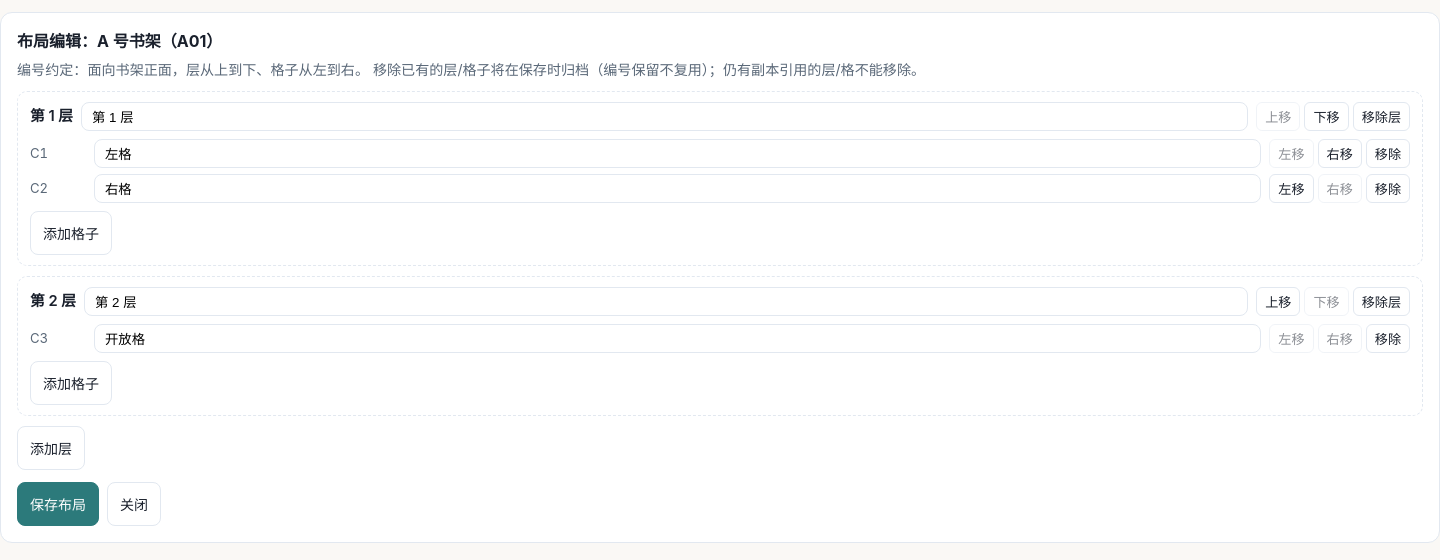
ShelfLayoutEditor › 至少保留 1 层且每层至少 1 格，否则禁止保存
This screenshot has width=1440, height=560.
# 移除第 2 层唯一的格子
Click the button "移除" in the row of "C3": click(1388, 339) [1366,324,1410,353]
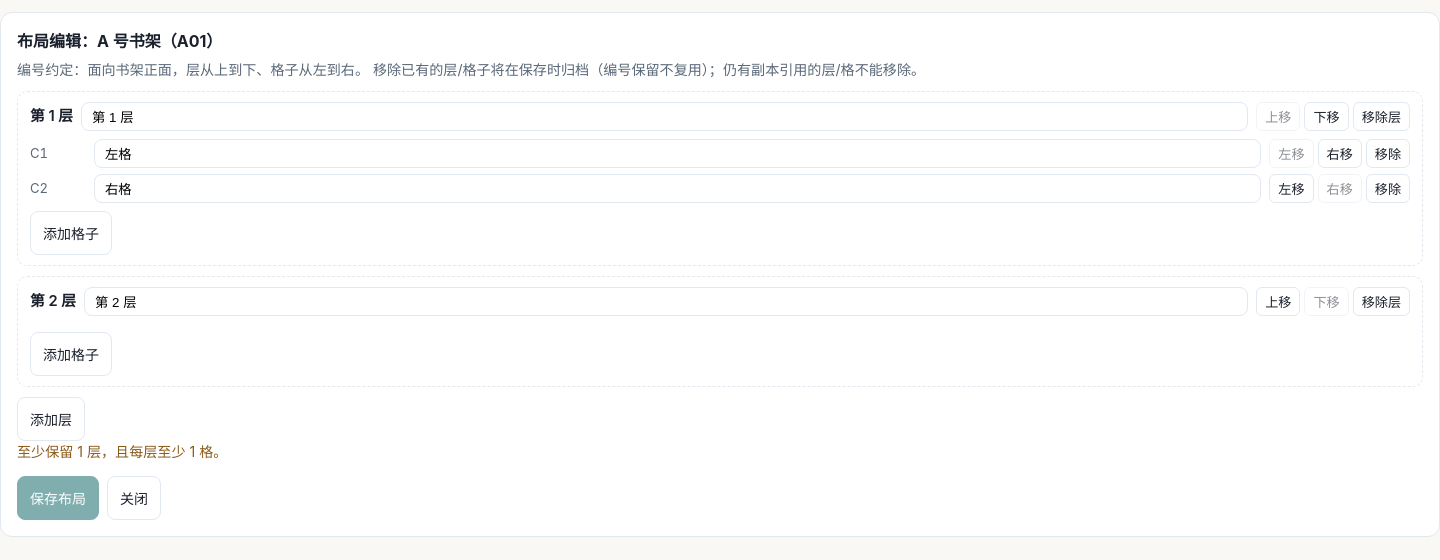
Expected: the text "至少保留 1 层，且每层至少 1 格" is shown, [17,443,227,460]
Expected: the button "保存布局" is disabled, [17,476,99,520]
